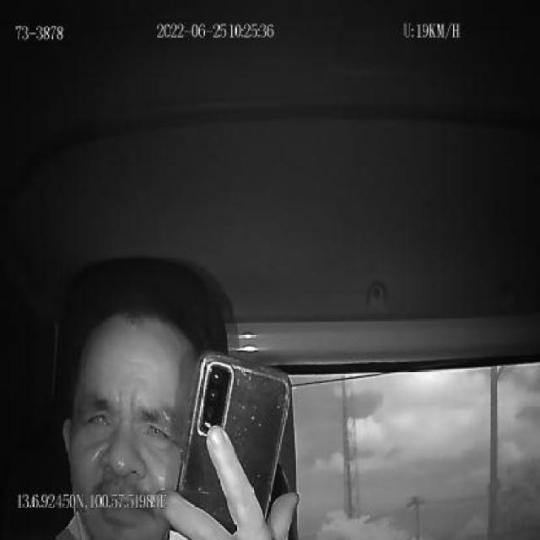phone: (168, 349, 294, 540)
